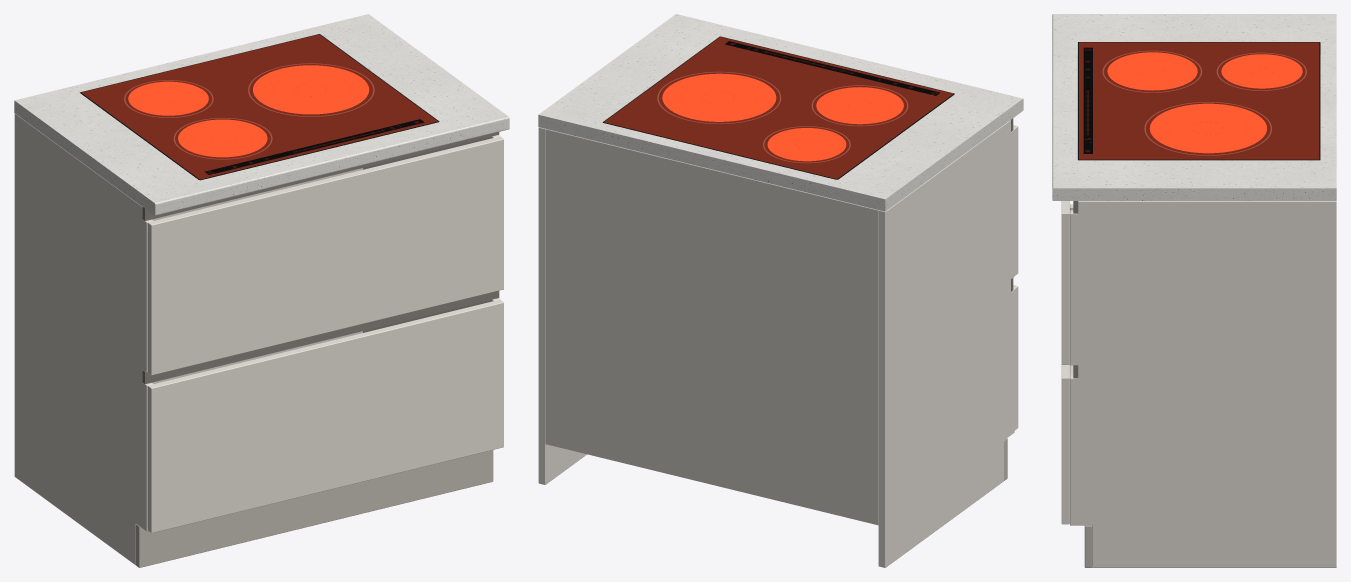
File: induction_counter.glb
3 views of the same model, side by side, from view 1: azimuth 30°, elevation 25°; view 2: azimuth 150°, elevation 25°; view 3: azimuth 270°, elevation 25° (orthographic). The views are drawn at different scales.
Parts seen in each view (by area): view 1: induction_counter_fronts, induction_counter_carcass, induction_counter_countertop, induction_counter_zones, induction_counter_cooktop, induction_counter_gola, induction_counter_touch_display; view 2: induction_counter_carcass, induction_counter_countertop, induction_counter_zones, induction_counter_cooktop, induction_counter_fronts, induction_counter_touch_display; view 3: induction_counter_carcass, induction_counter_zones, induction_counter_countertop, induction_counter_cooktop, induction_counter_fronts, induction_counter_touch_display.
Boxes of the visible parts, left/top/right/bottom form: induction_counter_fronts: left=147, top=136, right=503, bottom=533; induction_counter_carcass: left=14, top=113, right=500, bottom=567; induction_counter_countertop: left=14, top=14, right=509, bottom=215; induction_counter_zones: left=81, top=34, right=437, bottom=179; induction_counter_cooktop: left=80, top=34, right=439, bottom=180; induction_counter_gola: left=142, top=132, right=499, bottom=384; induction_counter_touch_display: left=204, top=119, right=424, bottom=174; induction_counter_carcass: left=538, top=120, right=1014, bottom=567; induction_counter_countertop: left=538, top=14, right=1023, bottom=211; induction_counter_zones: left=604, top=37, right=952, bottom=178; induction_counter_cooktop: left=602, top=36, right=954, bottom=179; induction_counter_fronts: left=1013, top=125, right=1018, bottom=430; induction_counter_touch_display: left=725, top=41, right=939, bottom=95; induction_counter_carcass: left=1070, top=55, right=1336, bottom=567; induction_counter_zones: left=1079, top=42, right=1319, bottom=159; induction_counter_countertop: left=1052, top=14, right=1336, bottom=200; induction_counter_cooktop: left=1078, top=42, right=1320, bottom=160; induction_counter_fronts: left=1061, top=201, right=1069, bottom=524; induction_counter_touch_display: left=1083, top=47, right=1092, bottom=153.
Bounding box in the file's own units: 0.886 × 0.9006 × 0.611.
Materials: 12 (3 with a texture image).
